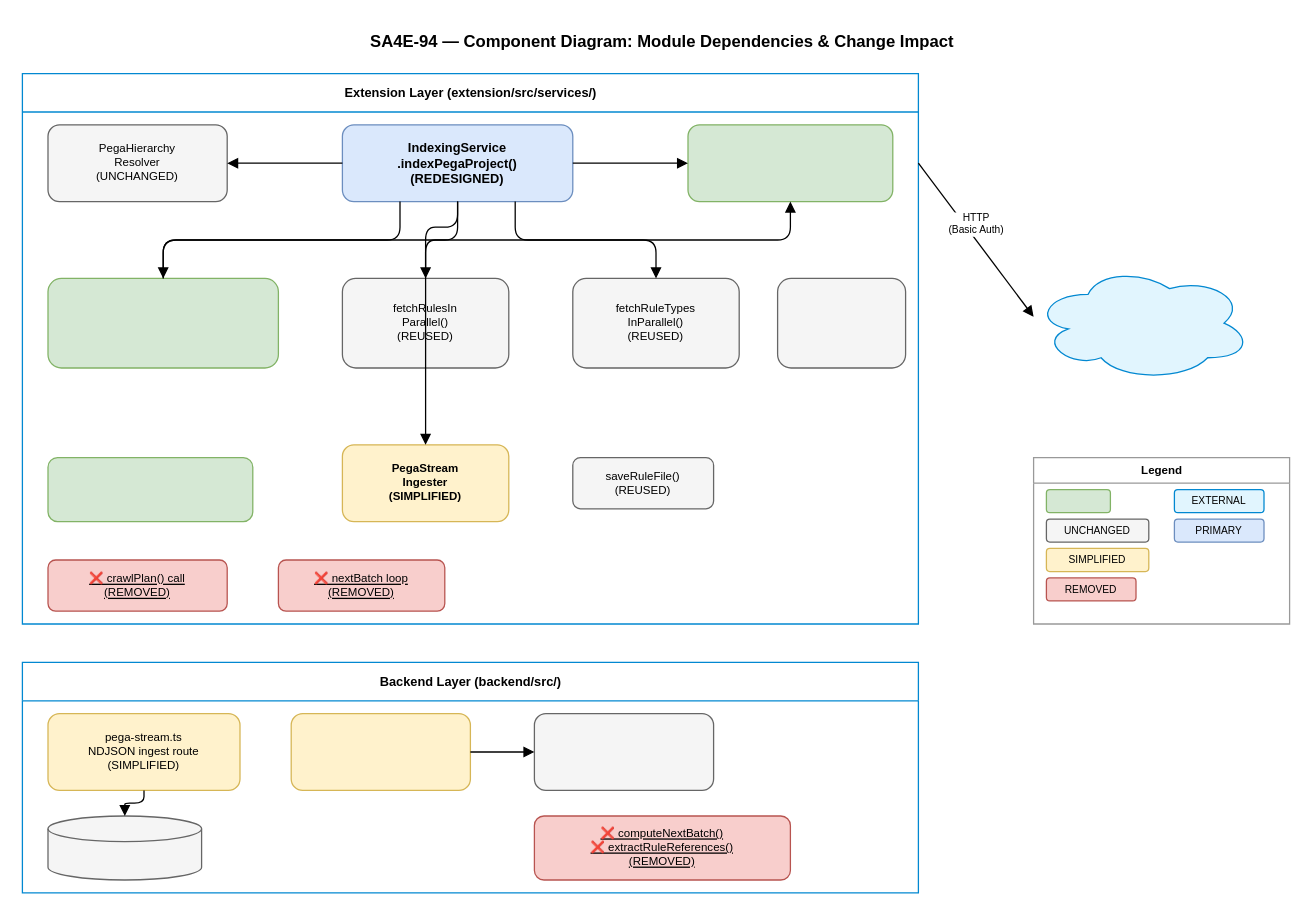
This 1312x915 diagram has some shape labels left out. The centre of each missing label's shape, as x and y in pixels:
calibrateFetch Concurrency() (REUSED): [841,322]
KB Storage + Graph DB (UNCHANGED): [124,847]
models/ RuleSetRuleSummary (NEW interface): [150,489]
NEW: [1077,500]
Pega Platform REST API: [1141,322]
pega-api.ts crawl-plan route (SIMPLIFIED): [380,751]
PegaCrawler plan() ✔ parseInsKey() ✔: [623,751]
PegaCrawlHelper (+enumerateRuleSet +enumerateAllRuleSets): [162,322]
PegaHttpClient (+listRulesByRuleSet) (EXTENDED): [790,163]
